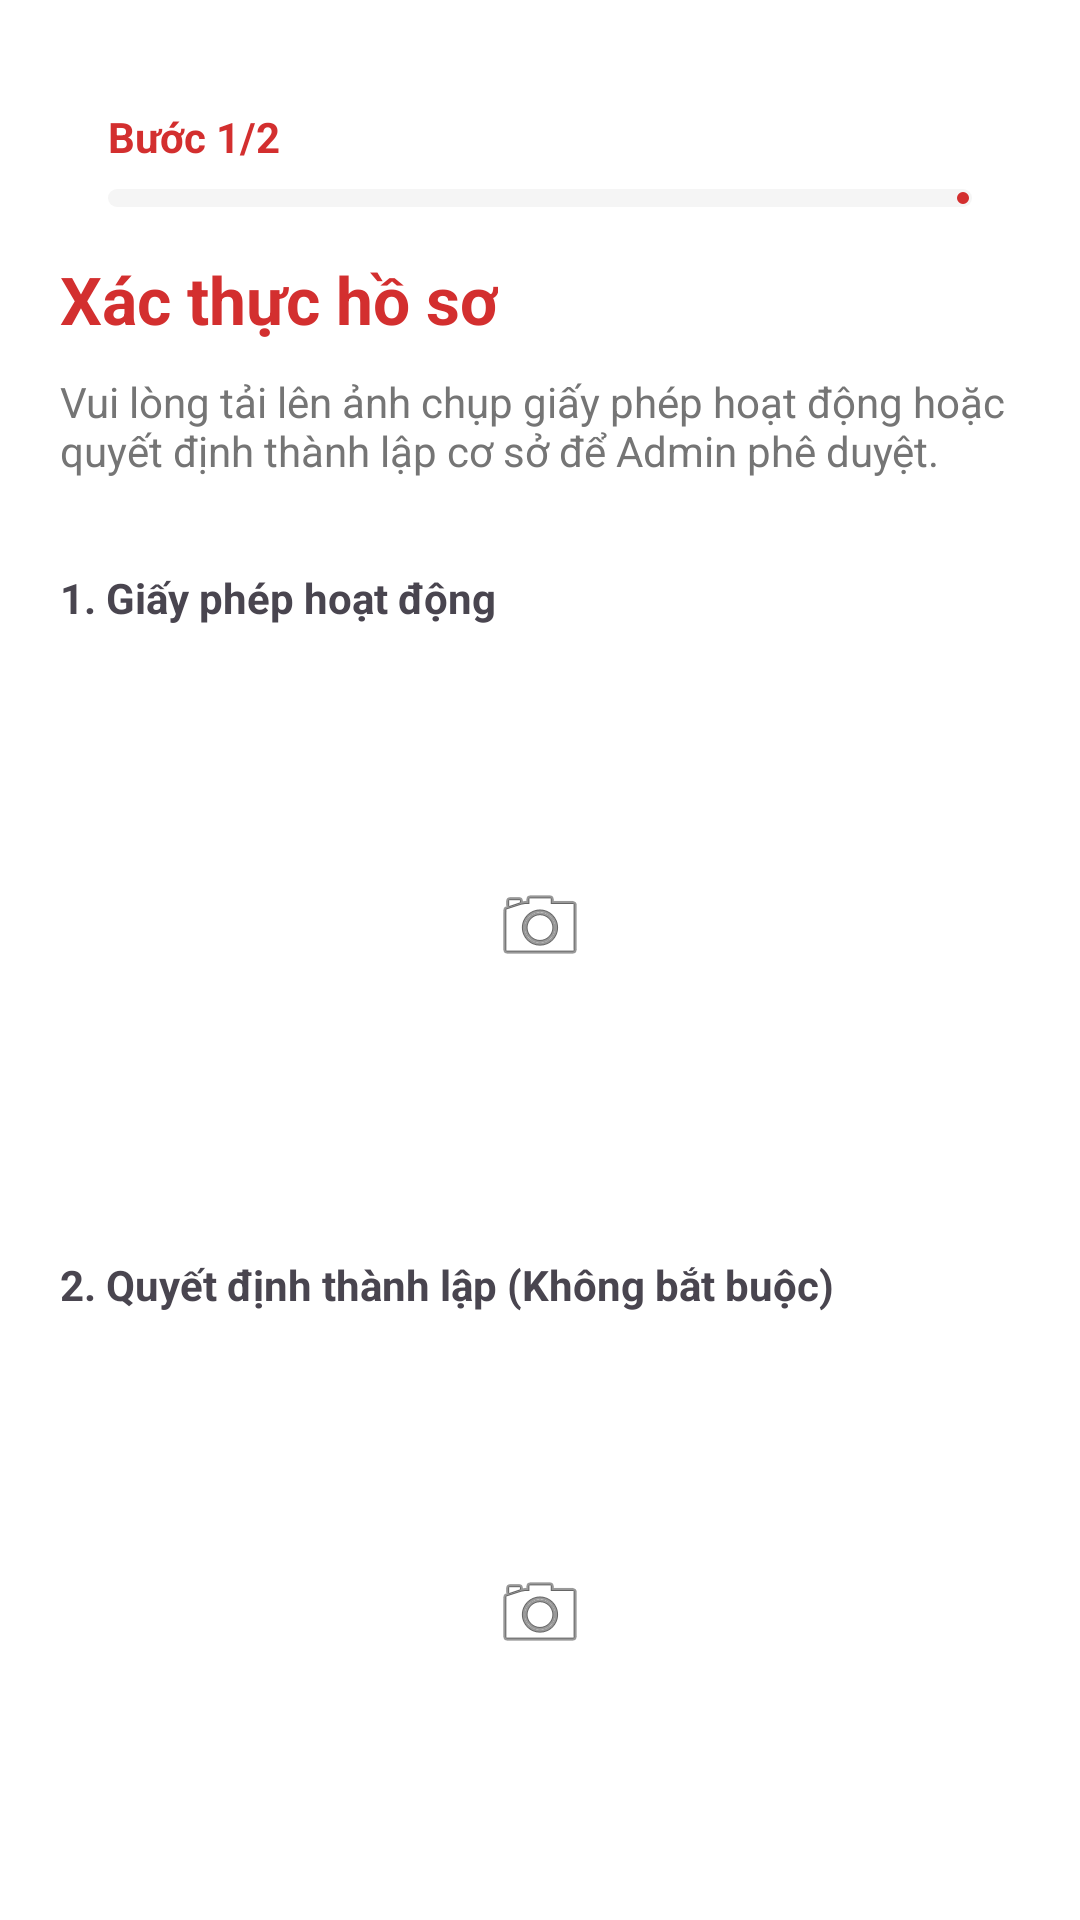

Icons on this 1080x1920 Android screen, each with its box as (x1,y1,x2,y2):
camera: (503,895,577,954), (503,1582,577,1641)
